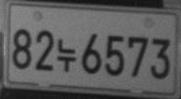2: (35, 29, 54, 71)
3: (150, 38, 170, 79)
5: (104, 35, 125, 76)
6: (81, 33, 101, 74)
7: (127, 36, 148, 76)
8: (12, 28, 32, 69)
누: (56, 38, 76, 72)
